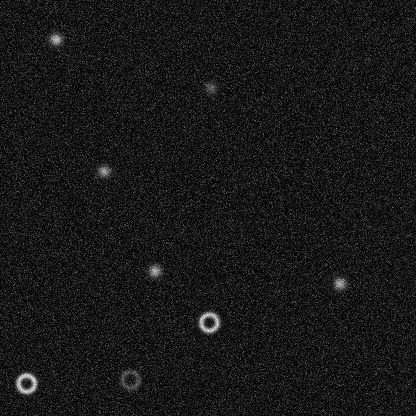Ring: (14, 371, 38, 395), (196, 310, 220, 334), (118, 367, 142, 391)
Spot: (331, 275, 347, 291), (146, 262, 162, 278), (47, 31, 63, 47), (202, 79, 218, 95), (95, 163, 111, 179)
